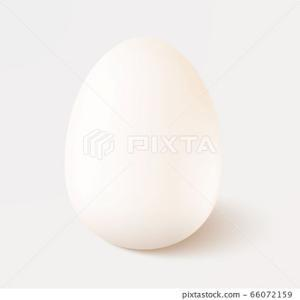Egg: (62, 34, 225, 252)
